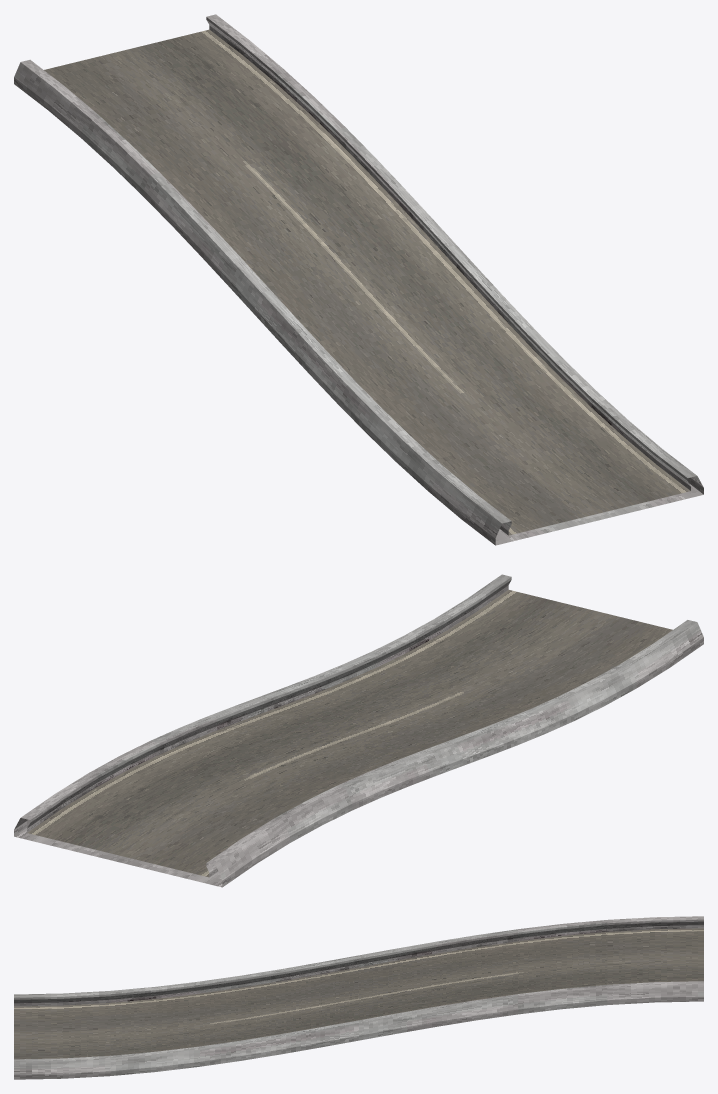
The model's file is road-Straight-Flat-Flat-Up2-Center-Size4.glb.
3 renders of one model, top to bottom at view 1: azimuth 30°, elevation 25°; view 2: azimuth 150°, elevation 25°; view 3: azimuth 270°, elevation 25°, orthographic. The views are drawn at different scales.
Visible parts, largest first — view 1: road-Straight-Flat-Flat-Up2-Center-Size4; view 2: road-Straight-Flat-Flat-Up2-Center-Size4; view 3: road-Straight-Flat-Flat-Up2-Center-Size4.
Boxes of the visible parts, x1,y1,x2,y2 form: road-Straight-Flat-Flat-Up2-Center-Size4: (14,14,703,545); road-Straight-Flat-Flat-Up2-Center-Size4: (14,574,703,887); road-Straight-Flat-Flat-Up2-Center-Size4: (14,916,703,1079).
Bounding box in the file's own units: 1 × 0.5938 × 4.
Materials: 2 (2 with a texture image).
